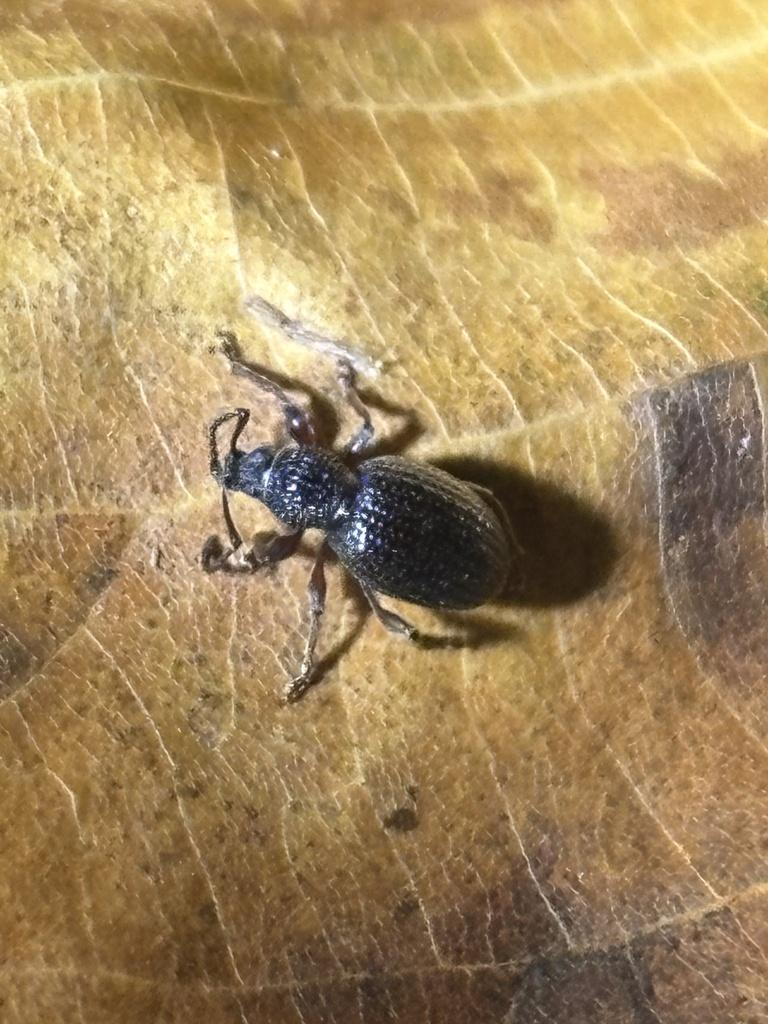weevils: (123, 296, 589, 740)
